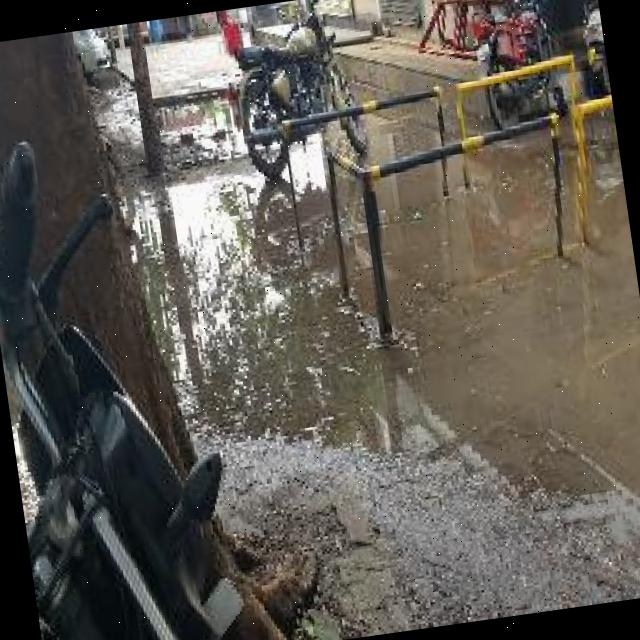stagnation: (143, 90, 631, 508)
